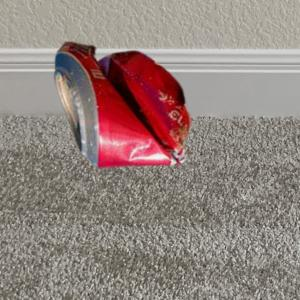can: (51, 42, 191, 167)
